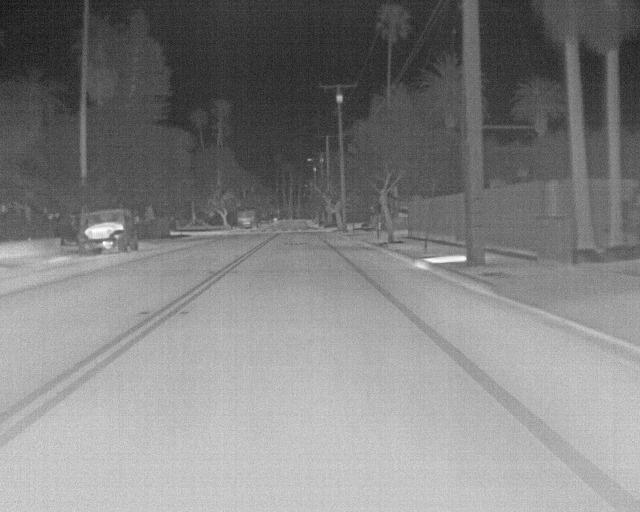car: (81, 208, 138, 256), (235, 208, 258, 231)
